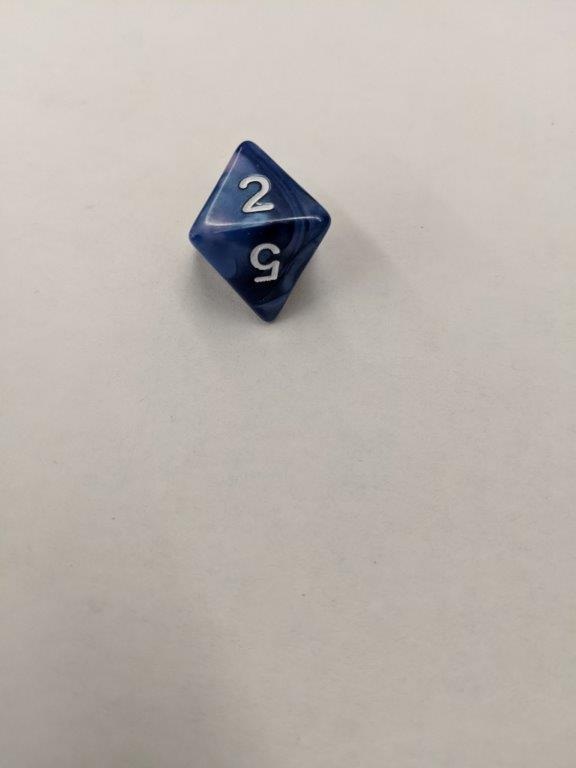d8-2: (184, 141, 333, 322)
